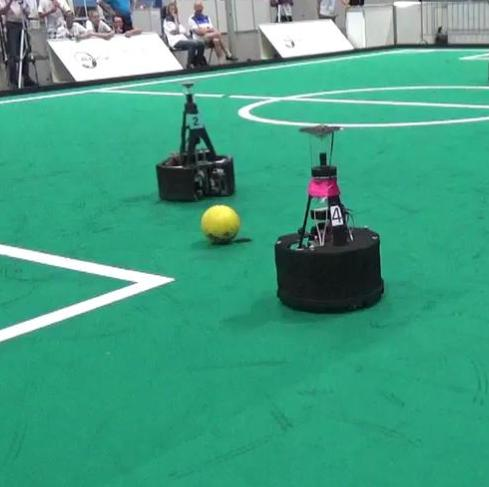robot: (270, 123, 387, 316), (152, 80, 243, 204)
